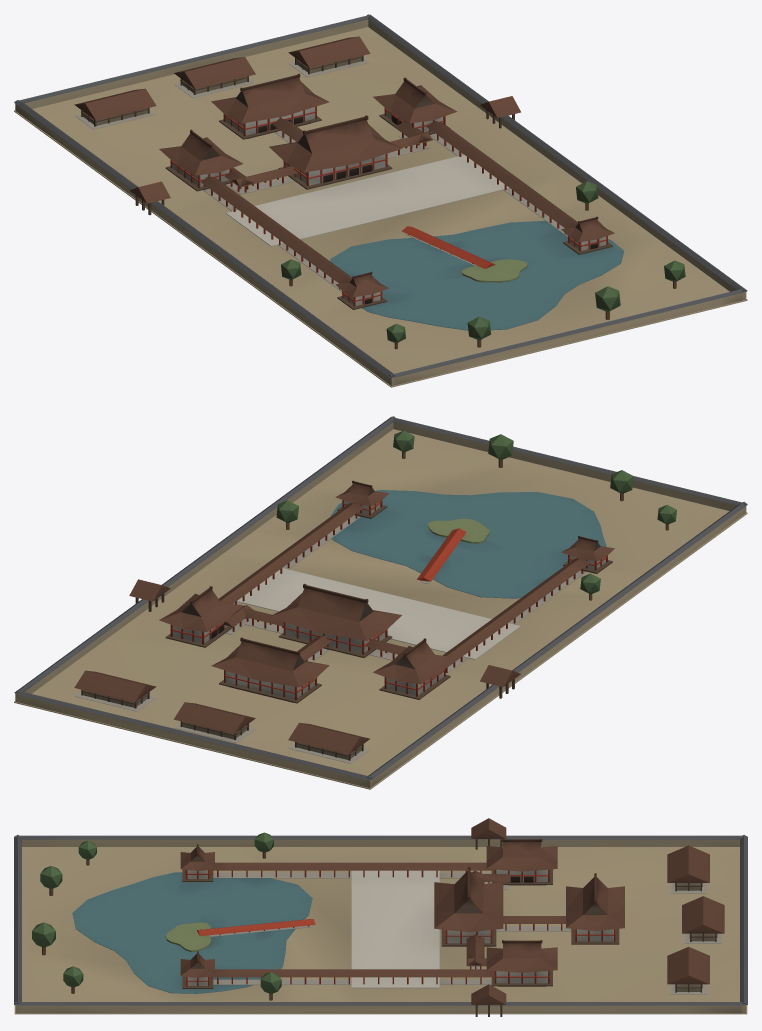
File: tsuchimikado-dono.glb
3 views of the same model, one above another, from view 1: azimuth 30°, elevation 25°; view 2: azimuth 150°, elevation 25°; view 3: azimuth 270°, elevation 25° (orthographic). The views are drawn at different scales.
Parts seen in each view (by area): view 1: p0_grounds, p2_roofs, p1_halls; view 2: p0_grounds, p2_roofs, p1_halls; view 3: p0_grounds, p2_roofs, p1_halls.
Part boxes in pixels (x1,y1,x2,y2): p0_grounds: (14, 14, 747, 387); p2_roofs: (74, 36, 685, 349); p1_halls: (75, 55, 612, 309); p0_grounds: (14, 416, 747, 789); p2_roofs: (74, 430, 676, 754); p1_halls: (75, 500, 612, 763); p0_grounds: (14, 835, 747, 1014); p2_roofs: (32, 832, 724, 1000); p1_halls: (182, 818, 721, 1016).
Bounding box in the file's own units: 126 × 16 × 220.
